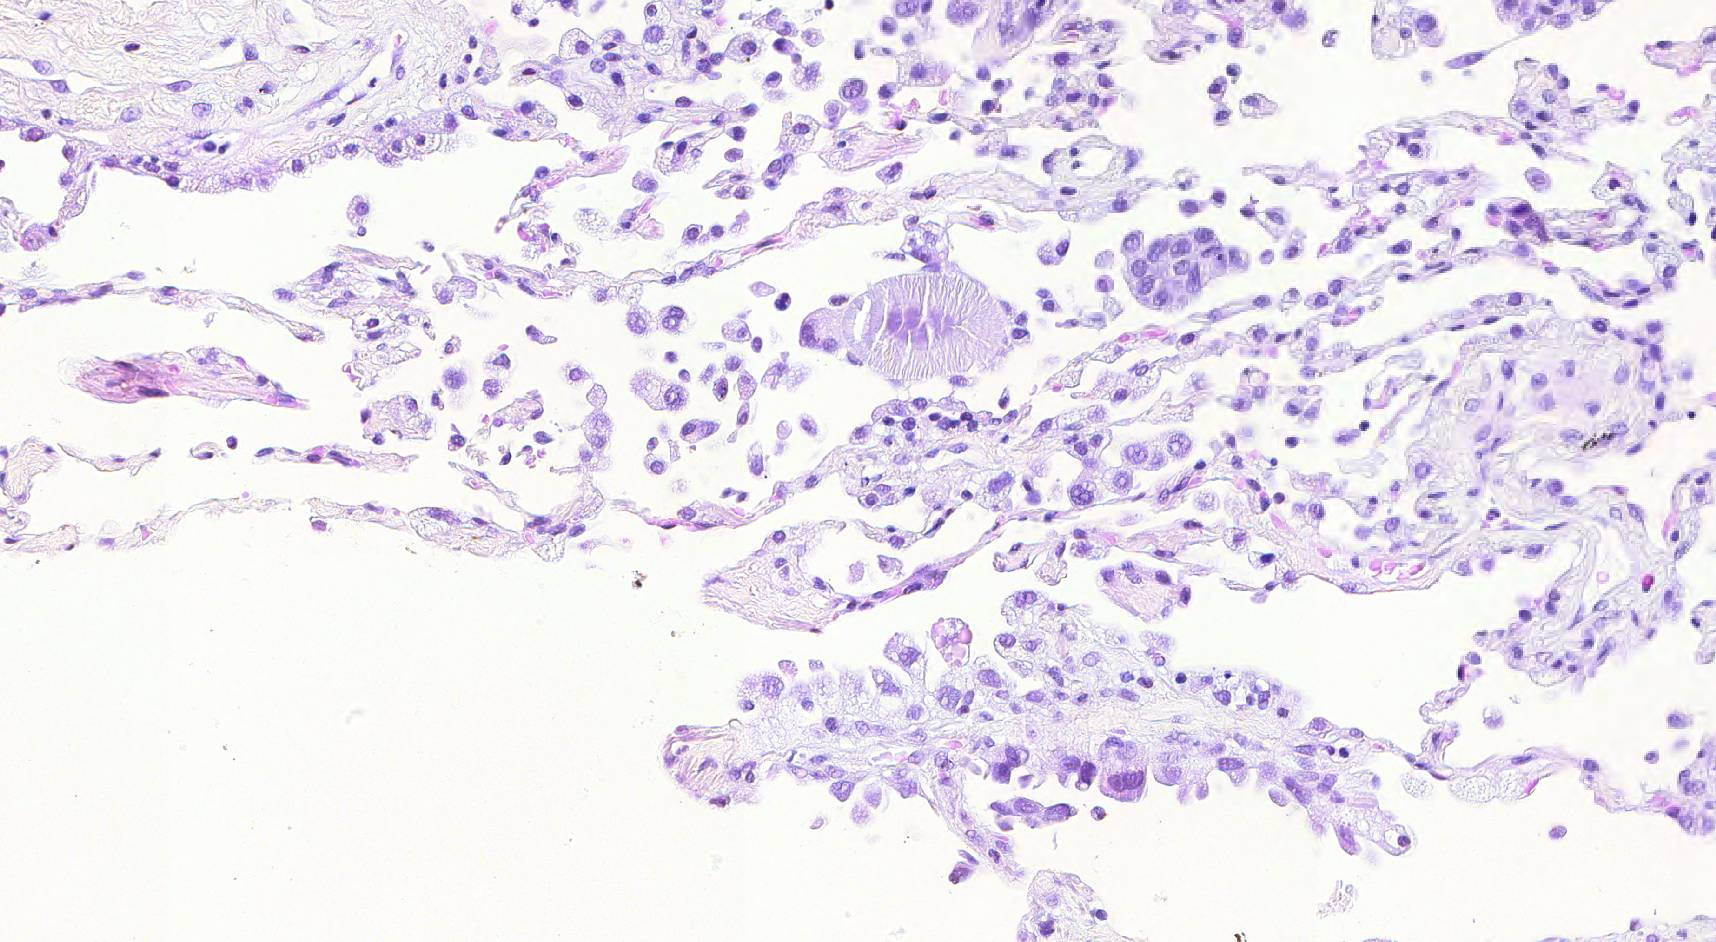stas: (1120, 226, 1253, 311)
